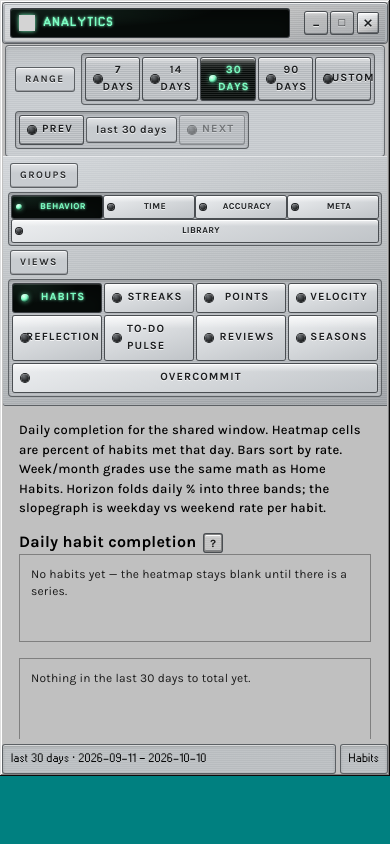
Test case: EnhancedAnalytics › restores Item Types as a Library view
Click the tab "Library" at (195, 231), box [12, 220, 378, 242]
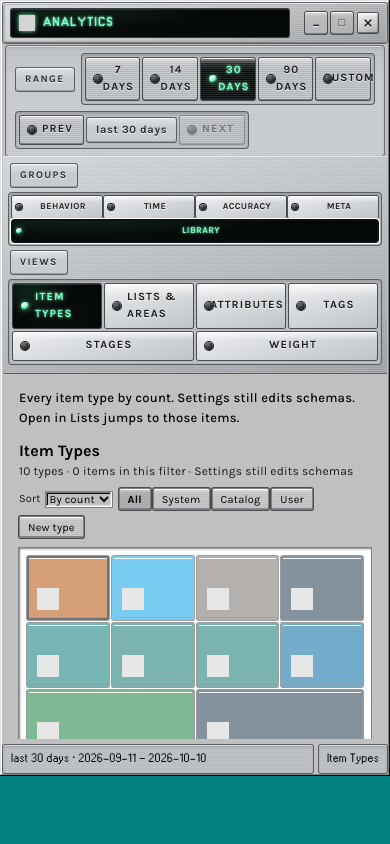
Check: the text "Settings still edits schemas" is shown, box [19, 390, 355, 424]
